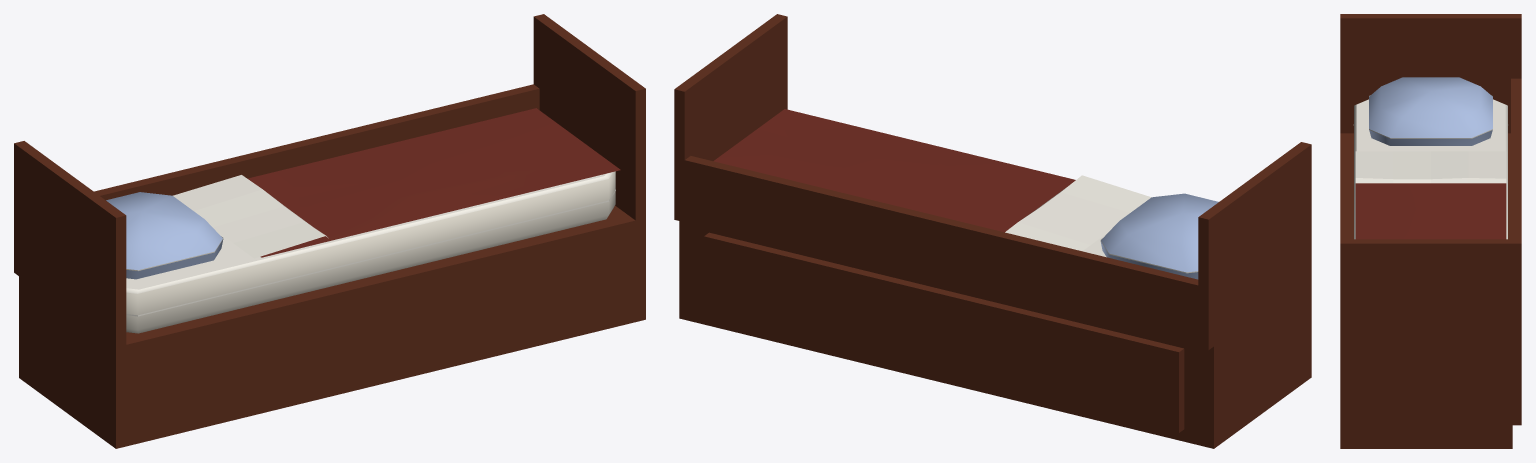
File: parametric-sized-berth-l180w60-3rd.glb
3 renders of one model, left to right at view 1: azimuth 30°, elevation 25°; view 2: azimuth 150°, elevation 25°; view 3: azimuth 270°, elevation 25°, orthographic. The views are drawn at different scales.
Parts seen in each view (by area): view 1: parametric-sized-berth-l180w60-3rd; view 2: parametric-sized-berth-l180w60-3rd; view 3: parametric-sized-berth-l180w60-3rd.
Boxes of the visible parts, <box> form: parametric-sized-berth-l180w60-3rd: <box>14,14,645,448</box>; parametric-sized-berth-l180w60-3rd: <box>674,14,1311,448</box>; parametric-sized-berth-l180w60-3rd: <box>1340,14,1521,448</box>.
Size of the model in its own units: 1.8 by 0.75 by 0.6.
